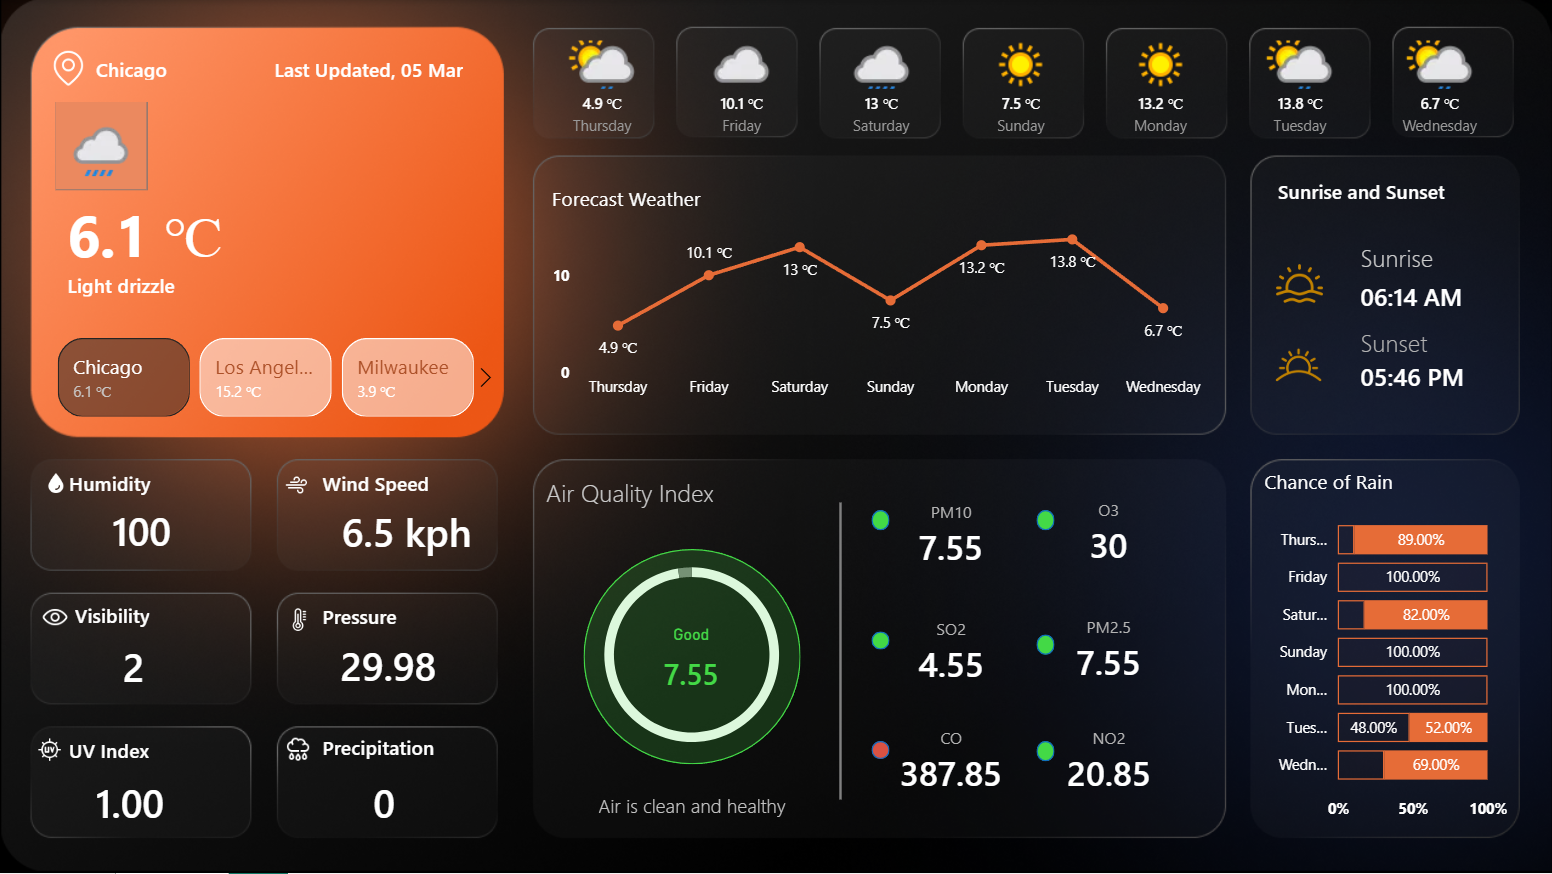

Layout of this report page (visuals, bound fields, positions):
{"tool":"powerbi","page":{"name":"Page 1","canvas":[1280,720],"ordinal":0},"visuals":[{"type":"donutChart","fields":{"Y":["_Measures.Left_value_PM10","Sum(Current.current.air_quality.pm10)"]},"box":[474.1,436.4,190,205.7],"z":0},{"type":"shape","box":[480.4,452.1,179,177.4],"z":1000},{"type":"advancedSlicerVisual","fields":{"Values":["Locations.location.name"]},"box":[22.7,272.6,393.7,75.7],"z":2000},{"type":"shape","box":[55.8,160.9,173.7,62.1],"z":3000},{"type":"shape","box":[55.8,223.1,210.3,20.7],"z":4000},{"type":"shape","box":[78.6,45.7,117.1,20],"z":5000},{"type":"image","box":[41.5,27.1,28.7,57.4],"z":6000},{"type":"shape","box":[225.7,45.7,174.3,20],"z":7000},{"type":"cardVisual","fields":{"Data":["Min(Current.current.condition.icon)"]},"box":[45.7,84.3,75.7,72.9],"z":8000},{"type":"image","box":[33.3,492.7,24,30.2],"z":9000},{"type":"shape","box":[61.5,492.7,64.6,27.1],"z":10000},{"type":"shape","box":[266,494,65,27],"z":11000},{"type":"shape","box":[266,602,95,27],"z":12000},{"type":"shape","box":[266,385,95,24],"z":13000},{"type":"shape","box":[57.3,384.4,72.9,27.1],"z":14000},{"type":"shape","box":[56.2,604.2,72.9,27.1],"z":15000},{"type":"image","box":[36.5,386.5,17.7,22.9],"z":16000},{"type":"image","box":[234.4,385.4,18.8,28.1],"z":17000},{"type":"image","box":[237.5,500,18.8,19.8],"z":18000},{"type":"image","box":[31,604,20,27],"z":19000},{"type":"image","box":[234,606,24,23],"z":20000},{"type":"advancedSlicerVisual","fields":{"Values":["Forcast_Day.Day_Name"]},"box":[437.1,27.1,810,102.9],"z":21000},{"type":"lineChart","title":"Forecast Weather","fields":{"Y":["Sum(Forcast_Day.forecast.forecastday.day.avgtemp_c)"],"Category":["Forcast_Day.Day_Name"]},"box":[450,151.7,550,185],"z":22000},{"type":"shape","box":[1052.4,140.8,165,31.8],"z":23000},{"type":"cardVisual","fields":{"Data":["Sum(Current.current.humidity)"]},"box":[75,414.8,105,41.6],"z":24000},{"type":"cardVisual","fields":{"Data":["_Measures.Wind_Speed"]},"box":[264.9,409.8,146.6,53.3],"z":25000},{"type":"cardVisual","fields":{"Data":["Sum(Current.current.vis_km)"]},"box":[83.7,522.8,77.4,50.5],"z":26000},{"type":"cardVisual","fields":{"Data":["Sum(Current.current.pressure_in)"]},"box":[263.2,523.1,118.3,50],"z":27000},{"type":"cardVisual","fields":{"Data":["Sum(Current.current.uv)"]},"box":[61.6,634.7,118.3,50],"z":28000},{"type":"cardVisual","fields":{"Data":["Sum(Current.current.precip_mm)"]},"box":[290.6,635,69.5,49],"z":29000},{"type":"shape","box":[1121.2,223.2,96.6,41.6],"z":30000},{"type":"shape","box":[1121.2,291.5,96.6,36.7],"z":31000},{"type":"shape","box":[1121.2,191.6,91.6,41.6],"z":32000},{"type":"shape","box":[1121.2,264.9,91.6,35],"z":33000},{"type":"image","box":[1037.3,275,65.6,50],"z":34000},{"type":"image","box":[1048.3,214,45.3,39.1],"z":35000},{"type":"hundredPercentStackedBarChart","title":"Chance of Rain","fields":{"Y":["Current.Left_value_Rain","Sum(Forcast_Day.forecast.forecastday.day.daily_chance_of_rain)"],"Category":["Forcast_Day.Day_Name"]},"box":[1037.3,385.9,209.3,298.4],"z":36000},{"type":"shape","box":[449.9,384.3,165.6,42.2],"z":37000},{"type":"cardVisual","fields":{"Data":["Sum(Current.current.air_quality.pm10)"]},"box":[730,406.6,106.8,67.5],"z":38000},{"type":"cardVisual","fields":{"Data":["Sum(Current.current.air_quality.o3)"]},"box":[868.7,405.9,89.3,66.6],"z":39000},{"type":"cardVisual","fields":{"Data":["Sum(Current.current.air_quality.so2)"]},"box":[738.8,503.3,89.3,66.6],"z":40000},{"type":"cardVisual","fields":{"Data":["Sum(Current.current.air_quality.co)"]},"box":[717.7,592.6,131.5,66.6],"z":41000},{"type":"cardVisual","fields":{"Data":["Sum(Current.current.air_quality.pm2_5)"]},"box":[868.7,501.7,89.3,66.6],"z":42000},{"type":"cardVisual","fields":{"Data":["Sum(Current.current.air_quality.no2)"]},"box":[860.6,592.6,107.2,66.6],"z":43000},{"type":"shape","box":[718,419.6,14.9,16.8],"z":44000},{"type":"shape","box":[718,609.9,14.9,14.9],"z":45000},{"type":"shape","box":[718,520.3,14.9,14.9],"z":46000},{"type":"shape","box":[854.2,419.6,14.9,16.8],"z":47000},{"type":"shape","box":[854.2,609.9,14.9,16.8],"z":48000},{"type":"shape","box":[854.2,522.2,14.9,16.8],"z":49000},{"type":"shape","box":[667.2,414.5,50.2,244.9],"z":50000},{"type":"cardVisual","fields":{"Data":["Sum(Current.current.air_quality.pm10)"]},"box":[524.4,514.9,91.1,65.9],"z":51000},{"type":"shape","box":[465.7,642.9,208.6,41.4],"z":52000}]}

Visuals, with their boxes in screenshot pixels (x1, y1, x2, y2), scaled from the page's 1280x720 canvas onto the 1552x874 screenshot:
donutChart - _Measures.Left_value_PM10 x Sum(Current.current.air_quality.pm10): pyautogui.locateOnScreen(575, 530, 805, 779)
shape: pyautogui.locateOnScreen(582, 549, 800, 764)
advancedSlicerVisual - Locations.location.name: pyautogui.locateOnScreen(28, 331, 505, 423)
shape: pyautogui.locateOnScreen(68, 195, 278, 271)
shape: pyautogui.locateOnScreen(68, 271, 323, 296)
shape: pyautogui.locateOnScreen(95, 55, 237, 80)
image: pyautogui.locateOnScreen(50, 33, 85, 103)
shape: pyautogui.locateOnScreen(274, 55, 485, 80)
cardVisual - Min(Current.current.condition.icon): pyautogui.locateOnScreen(55, 102, 147, 191)
image: pyautogui.locateOnScreen(40, 598, 69, 635)
shape: pyautogui.locateOnScreen(75, 598, 153, 631)
shape: pyautogui.locateOnScreen(323, 600, 401, 632)
shape: pyautogui.locateOnScreen(323, 731, 438, 764)
shape: pyautogui.locateOnScreen(323, 467, 438, 496)
shape: pyautogui.locateOnScreen(69, 467, 158, 500)
shape: pyautogui.locateOnScreen(68, 733, 157, 766)
image: pyautogui.locateOnScreen(44, 469, 66, 497)
image: pyautogui.locateOnScreen(284, 468, 307, 502)
image: pyautogui.locateOnScreen(288, 607, 311, 631)
image: pyautogui.locateOnScreen(38, 733, 62, 766)
image: pyautogui.locateOnScreen(284, 736, 313, 764)
advancedSlicerVisual - Forcast_Day.Day_Name: pyautogui.locateOnScreen(530, 33, 1512, 158)
"Forecast Weather" lineChart: pyautogui.locateOnScreen(546, 184, 1212, 409)
shape: pyautogui.locateOnScreen(1276, 171, 1476, 210)
cardVisual - Sum(Current.current.humidity): pyautogui.locateOnScreen(91, 504, 218, 554)
cardVisual - _Measures.Wind_Speed: pyautogui.locateOnScreen(321, 497, 499, 562)
cardVisual - Sum(Current.current.vis_km): pyautogui.locateOnScreen(101, 635, 195, 696)
cardVisual - Sum(Current.current.pressure_in): pyautogui.locateOnScreen(319, 635, 463, 696)
cardVisual - Sum(Current.current.uv): pyautogui.locateOnScreen(75, 770, 218, 831)
cardVisual - Sum(Current.current.precip_mm): pyautogui.locateOnScreen(352, 771, 437, 830)
shape: pyautogui.locateOnScreen(1359, 271, 1477, 321)
shape: pyautogui.locateOnScreen(1359, 354, 1477, 398)
shape: pyautogui.locateOnScreen(1359, 233, 1471, 283)
shape: pyautogui.locateOnScreen(1359, 322, 1471, 364)
image: pyautogui.locateOnScreen(1258, 334, 1337, 395)
image: pyautogui.locateOnScreen(1271, 260, 1326, 307)
"Chance of Rain" hundredPercentStackedBarChart: pyautogui.locateOnScreen(1258, 468, 1512, 831)
shape: pyautogui.locateOnScreen(546, 466, 746, 518)
cardVisual - Sum(Current.current.air_quality.pm10): pyautogui.locateOnScreen(885, 494, 1015, 576)
cardVisual - Sum(Current.current.air_quality.o3): pyautogui.locateOnScreen(1053, 493, 1162, 574)
cardVisual - Sum(Current.current.air_quality.so2): pyautogui.locateOnScreen(896, 611, 1004, 692)
cardVisual - Sum(Current.current.air_quality.co): pyautogui.locateOnScreen(870, 719, 1030, 800)
cardVisual - Sum(Current.current.air_quality.pm2_5): pyautogui.locateOnScreen(1053, 609, 1162, 690)
cardVisual - Sum(Current.current.air_quality.no2): pyautogui.locateOnScreen(1043, 719, 1173, 800)
shape: pyautogui.locateOnScreen(871, 509, 889, 530)
shape: pyautogui.locateOnScreen(871, 740, 889, 758)
shape: pyautogui.locateOnScreen(871, 632, 889, 650)
shape: pyautogui.locateOnScreen(1036, 509, 1054, 530)
shape: pyautogui.locateOnScreen(1036, 740, 1054, 761)
shape: pyautogui.locateOnScreen(1036, 634, 1054, 654)
shape: pyautogui.locateOnScreen(809, 503, 870, 800)
cardVisual - Sum(Current.current.air_quality.pm10): pyautogui.locateOnScreen(636, 625, 746, 705)
shape: pyautogui.locateOnScreen(565, 780, 818, 831)
